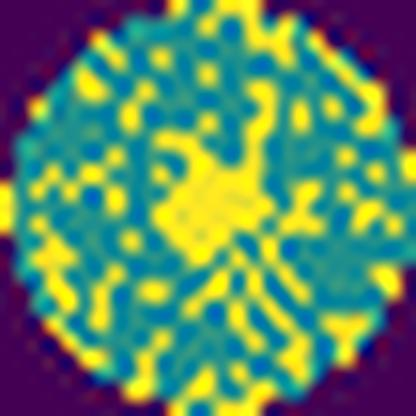Center: (152, 77, 286, 270)
